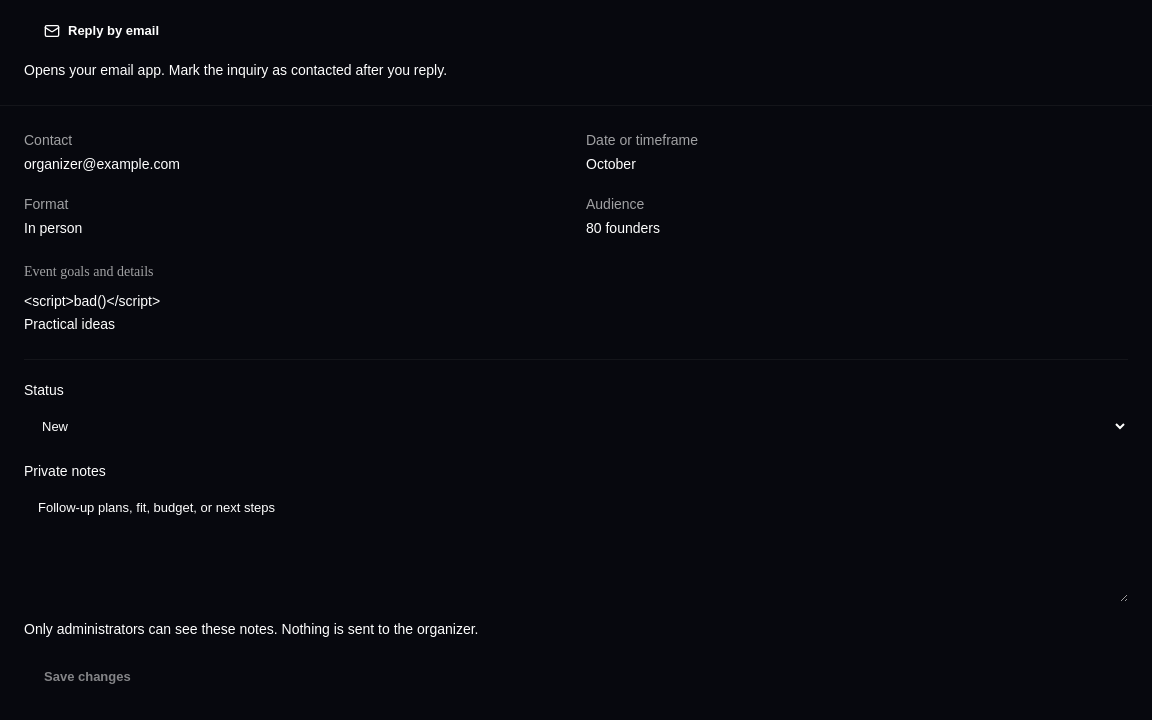
Test: speaking inbox details › preserves a draft when another administrator already changed the inquiry
(page scrolled)
Step 1. Type "Keep this draft" into the text box labelled "Private notes" → (576, 546), box [24, 489, 1128, 602]
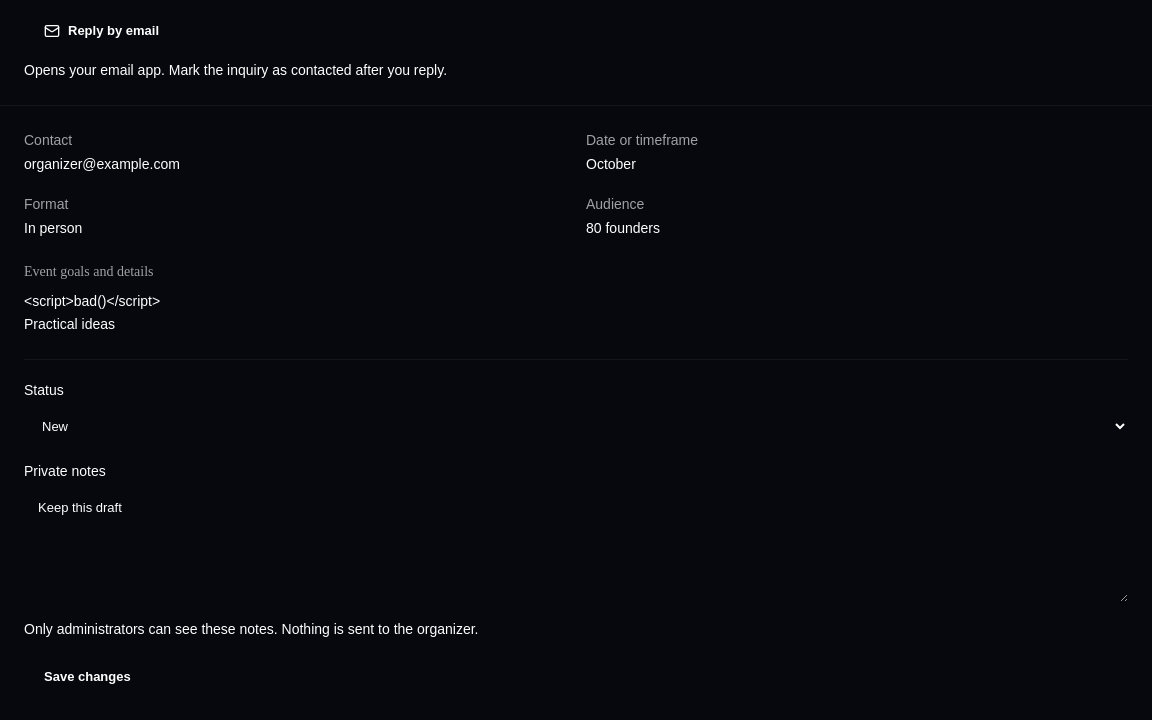
Step 2. Click the button "Save changes" → (87, 676), box [24, 657, 151, 696]
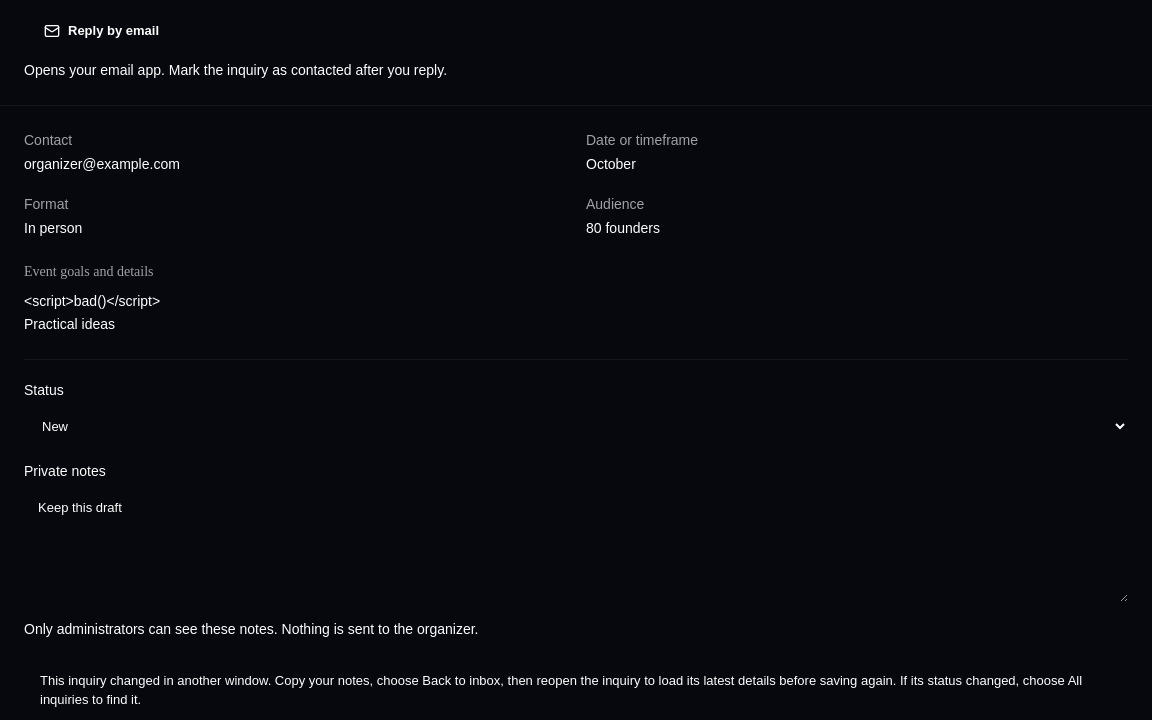
expect the message shows "changed in another window": met, box [40, 673, 1082, 707]
